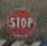stop: (5, 7, 35, 38)
